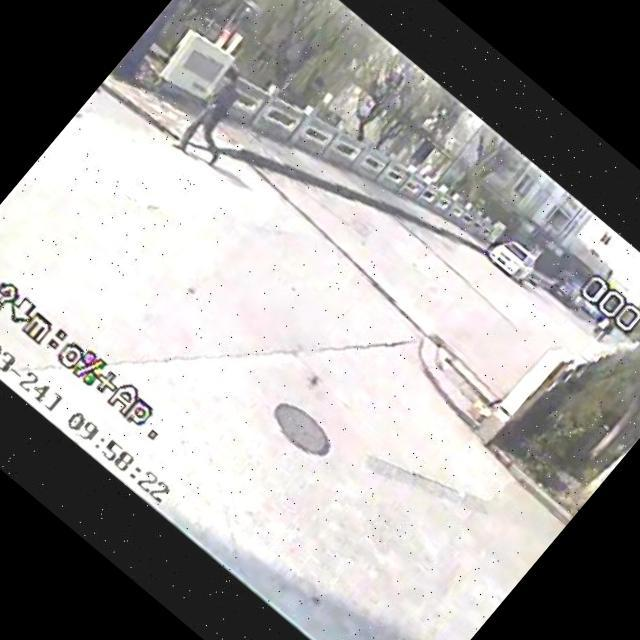person: (166, 59, 276, 175), (580, 305, 623, 349)
